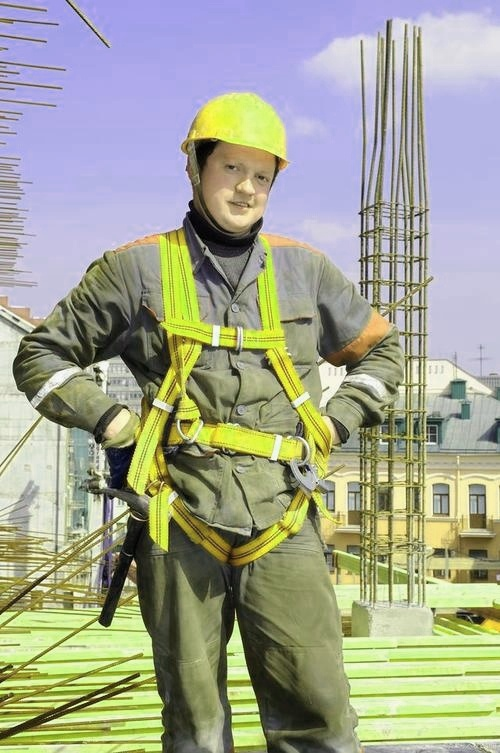safety belt: (133, 237, 343, 562)
